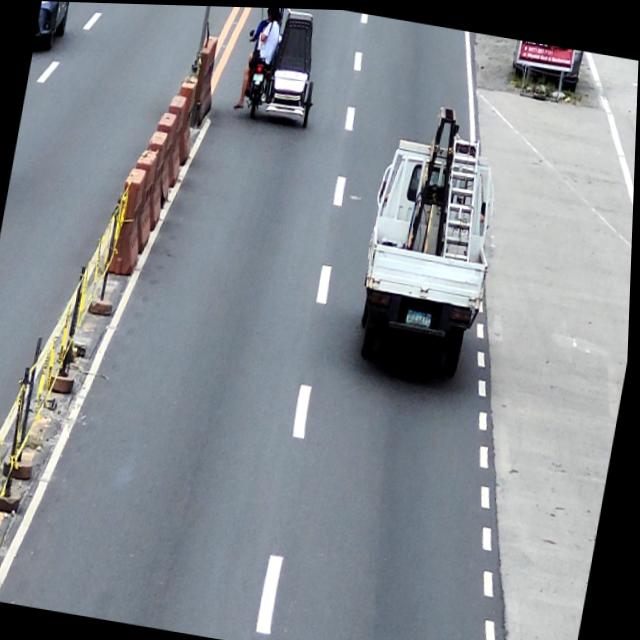Car: (33, 1, 76, 54)
License-Plate: (407, 307, 435, 327), (252, 70, 265, 82)
Tricycle: (235, 6, 330, 127)
Truck: (351, 132, 512, 380)
